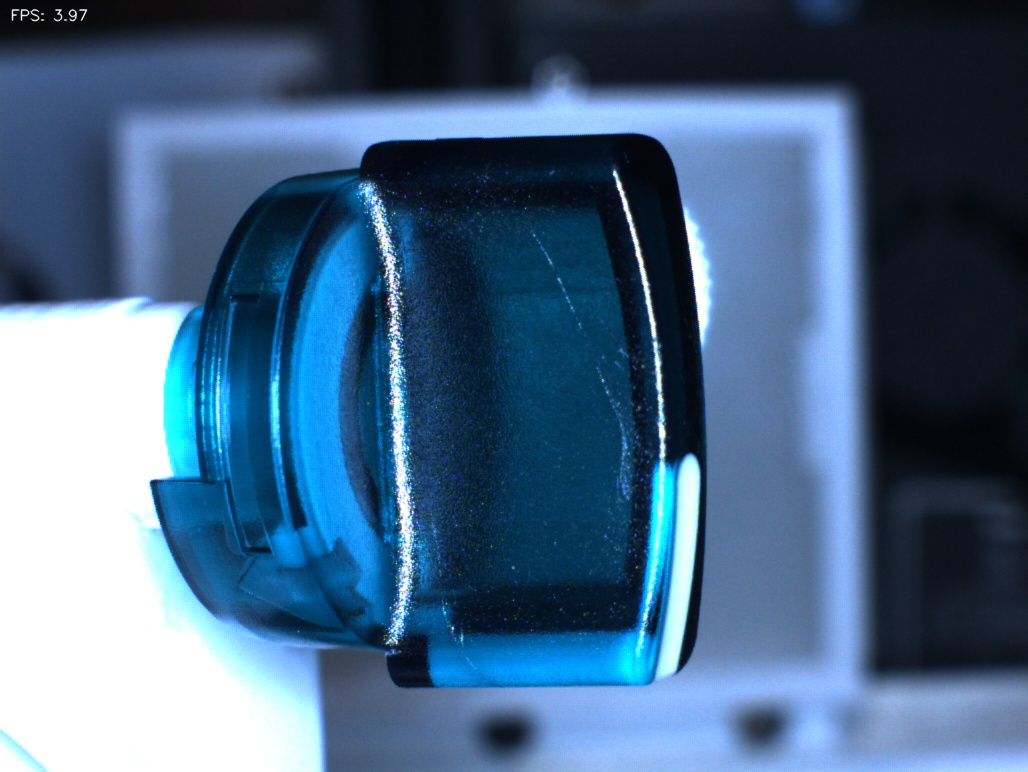Givrage: (522, 230, 653, 476)
